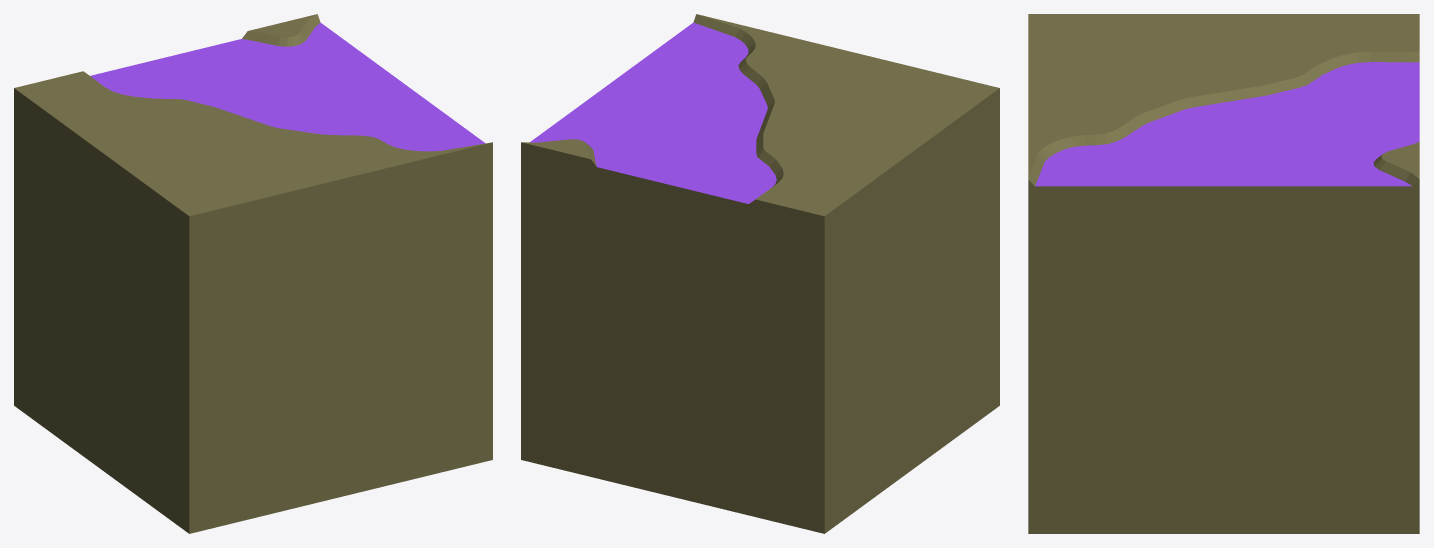
File: tile_toxic_4b_01.fbx
3 renders of one model, left to right at view 1: azimuth 30°, elevation 25°; view 2: azimuth 150°, elevation 25°; view 3: azimuth 270°, elevation 25°, orthographic. The views are drawn at different scales.
Visible parts, largest first — view 1: tile_toxic_4b_01; view 2: tile_toxic_4b_01; view 3: tile_toxic_4b_01.
Part boxes in pixels (x1,y1,x2,y2): tile_toxic_4b_01: (14, 14, 492, 533); tile_toxic_4b_01: (521, 14, 999, 533); tile_toxic_4b_01: (1028, 14, 1419, 533).
Bounding box in the file's own units: 100 × 100 × 100.
